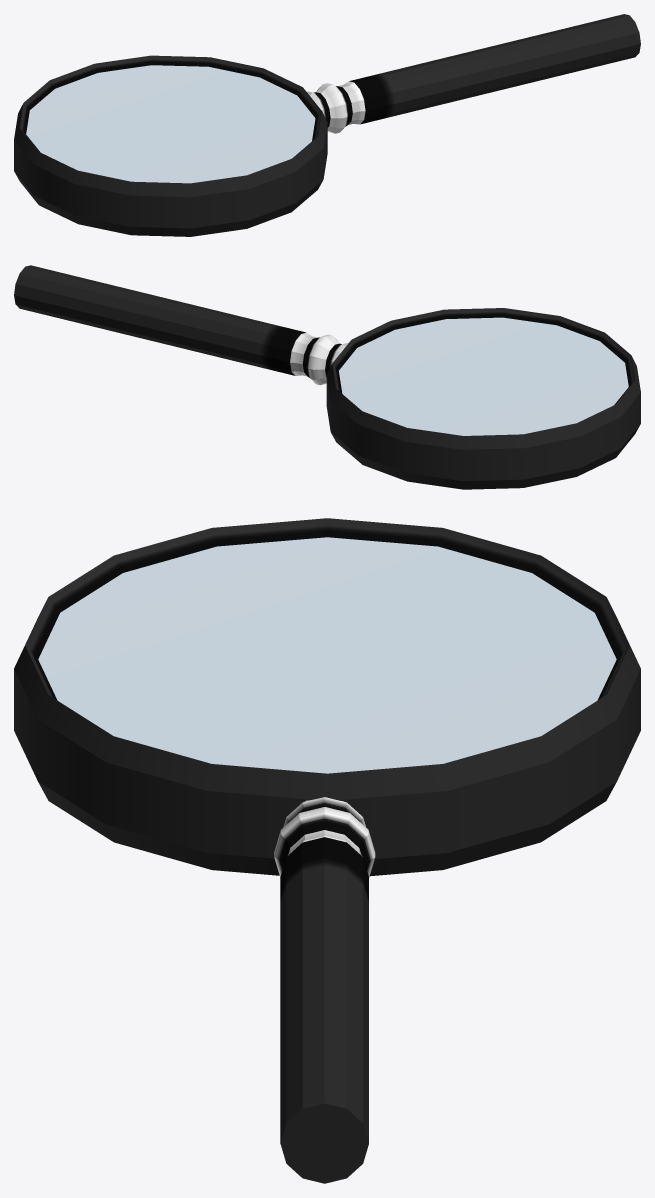
File: magnifying_glass.fbx
3 views of the same model, one above another, from view 1: azimuth 30°, elevation 25°; view 2: azimuth 150°, elevation 25°; view 3: azimuth 270°, elevation 25° (orthographic). The views are drawn at different scales.
Parts seen in each view (by area): view 1: magnifying_glass_combine; view 2: magnifying_glass_combine; view 3: magnifying_glass_combine.
Boxes of the visible parts, left/top/right/bottom form: magnifying_glass_combine: left=14, top=14, right=640, bottom=236; magnifying_glass_combine: left=14, top=265, right=640, bottom=489; magnifying_glass_combine: left=14, top=518, right=640, bottom=1183.
Bounding box in the file's own units: 6.99 × 0.6016 × 3.22.
Materials: 1 (1 with a texture image).
